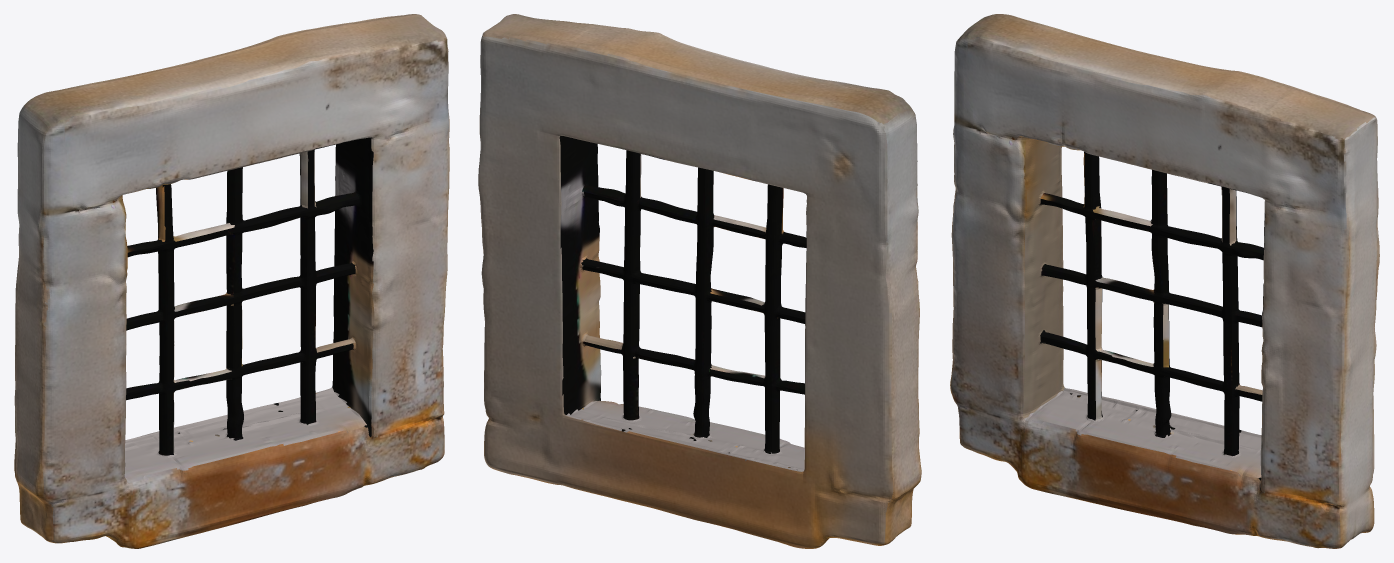
3 renders of one model, left to right at view 1: azimuth 30°, elevation 25°; view 2: azimuth 150°, elevation 25°; view 3: azimuth 330°, elevation 25°, orthographic. The views are drawn at different scales.
Visible parts, largest first — view 1: Hy21_Mesh.obj; view 2: Hy21_Mesh.obj; view 3: Hy21_Mesh.obj.
Part boxes in pixels (bbox=[...]): Hy21_Mesh.obj: bbox=[14, 14, 449, 548]; Hy21_Mesh.obj: bbox=[478, 14, 921, 548]; Hy21_Mesh.obj: bbox=[950, 14, 1379, 548].
Bounding box in the file's own units: 1.89 × 1.96 × 0.3257.
Materials: 1 (1 with a texture image).
